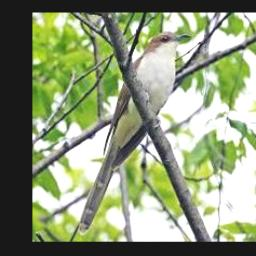Cuckoo: (79, 32, 192, 235)
